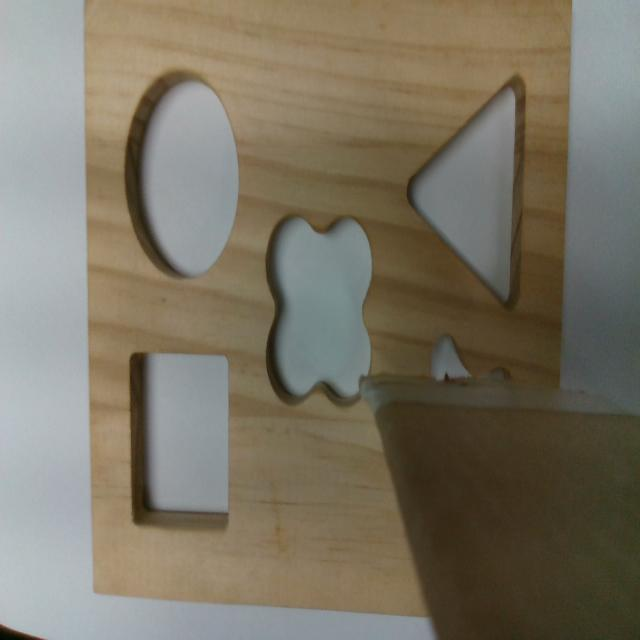circle: (128, 66, 239, 277)
flower: (264, 210, 370, 403)
square: (130, 357, 230, 529)
triangle: (408, 71, 527, 308)
